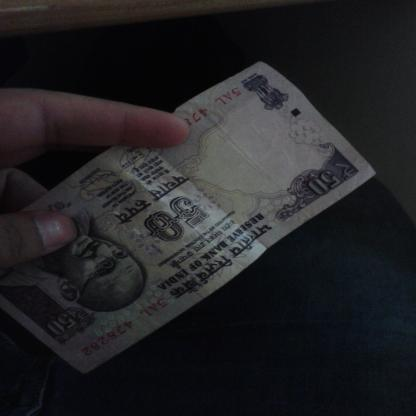Old50Front: (0, 60, 377, 375)
